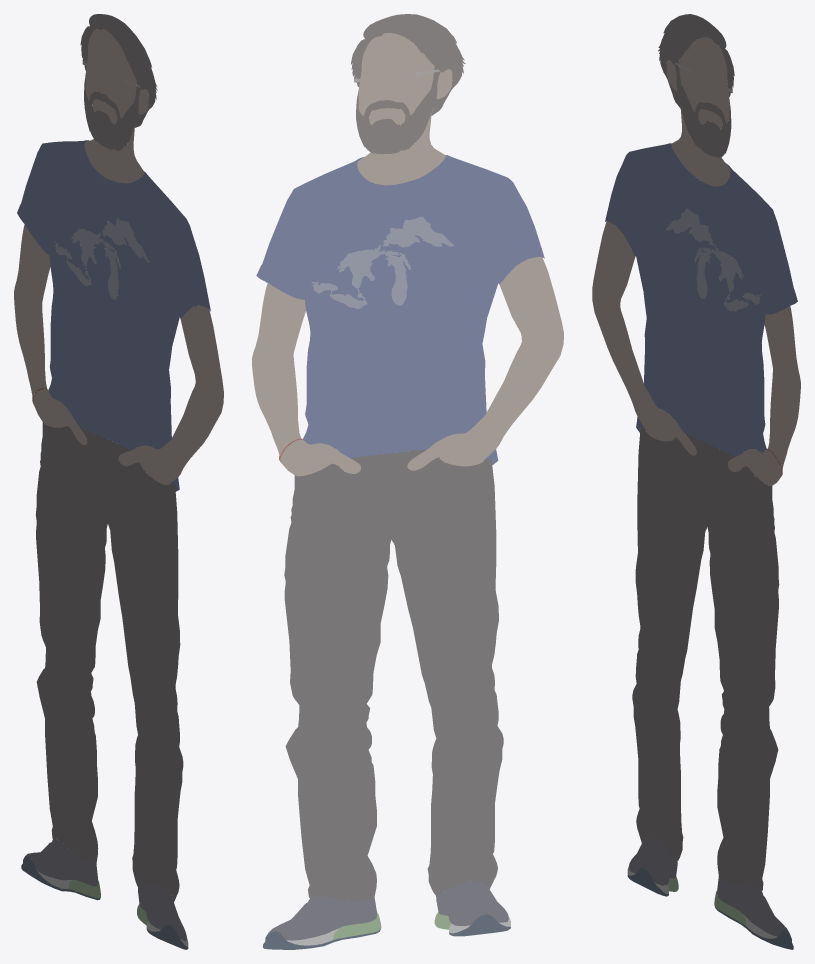
Rendered from carpet3.glb.
The picture shows the model from 3 angles, left to right: view 1: azimuth 90°, elevation 25°; view 2: azimuth 150°, elevation 25°; view 3: azimuth 270°, elevation 25°; orthographic projection. The views are drawn at different scales.
Visible parts, largest first — view 1: Marc1; view 2: Marc1; view 3: Marc1.
Boxes of the visible parts, x1,y1,x2,y2 form: Marc1: [14, 14, 223, 949]; Marc1: [252, 14, 563, 949]; Marc1: [592, 14, 800, 949].
Size of what is drawn, in the model's own units: 419 by 1822 by 384.
